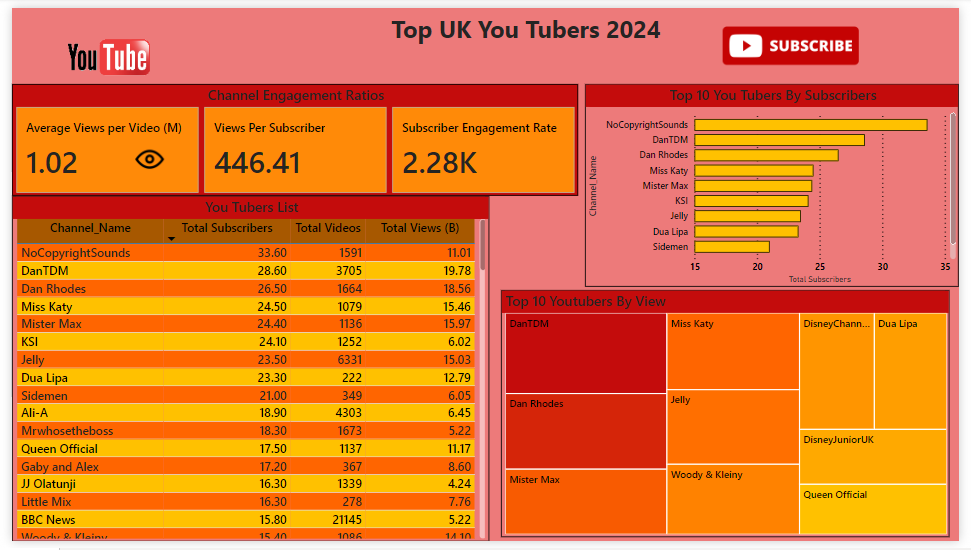

The page's visual inventory and layout, read from the dashboard file:
{"tool":"powerbi","page":{"name":"Page 1","canvas":[1280,720],"ordinal":0},"visuals":[{"type":"textbox","box":[446.4,0,496.8,74.9],"z":0},{"type":"tableEx","title":"You Tubers List","fields":{"Values":["view_uk_youtub_2024.Channel_name","view_uk_youtub_2024.Total Subscribers","view_uk_youtub_2024.Total Videos","view_uk_youtub_2024.Total Views (B)"]},"box":[0,253.4,645.1,466.6],"z":1000},{"type":"treemap","title":"Top 10 Youtubers By View","fields":{"Group":["view_uk_youtub_2024.Channel_name"],"Values":["view_uk_youtub_2024.Total Views (B)","view_uk_youtub_2024.Total Subscribers","view_uk_youtub_2024.Total Videos"]},"box":[661,381.6,606.2,334.1],"z":2000},{"type":"cardVisual","title":"Channel Engagement Ratios","fields":{"Data":["view_uk_youtub_2024.Average Views per Video (M)","view_uk_youtub_2024.Views Per Subscriber","view_uk_youtub_2024.Subscriber Engagement Rate"]},"box":[0,102.2,764.6,151.2],"z":3000},{"type":"barChart","title":"Top 10 You Tubers By Subscribers","fields":{"Category":["view_uk_youtub_2024.Channel_name"],"Y":["view_uk_youtub_2024.Total Subscribers"]},"box":[774.7,102.2,505.4,273.6],"z":4000},{"type":"image","box":[126.7,178.6,118.1,51.8],"z":5000},{"type":"image","box":[0,0,257.8,132.5],"z":6000},{"type":"image","box":[874.1,0,355.7,102.2],"z":7000}]}

Visuals, with their boxes in screenshot pixels (x1, y1, x2, y2), scaled from the page's 1280x720 canvas onto the 971x550 screenshot:
textbox: [339, 0, 716, 57]
"You Tubers List" tableEx: [0, 194, 489, 549]
"Top 10 Youtubers By View" treemap: [501, 292, 961, 547]
"Channel Engagement Ratios" cardVisual: [0, 78, 580, 194]
"Top 10 You Tubers By Subscribers" barChart: [588, 78, 970, 287]
image: [96, 136, 186, 176]
image: [0, 0, 196, 101]
image: [663, 0, 933, 78]
